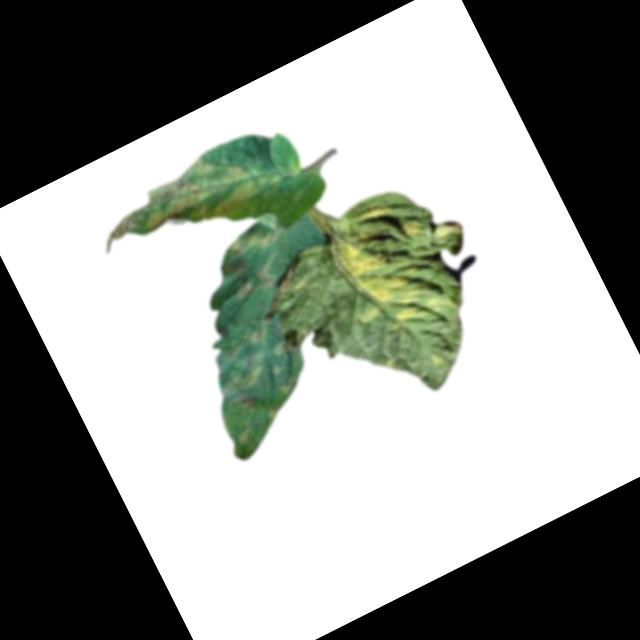Leaf_Mold: (87, 142, 261, 273), (323, 214, 438, 345), (211, 345, 276, 403), (222, 217, 283, 266), (226, 266, 278, 307), (238, 314, 277, 350), (353, 197, 393, 229), (277, 372, 307, 401), (267, 336, 296, 364), (401, 215, 429, 244)
